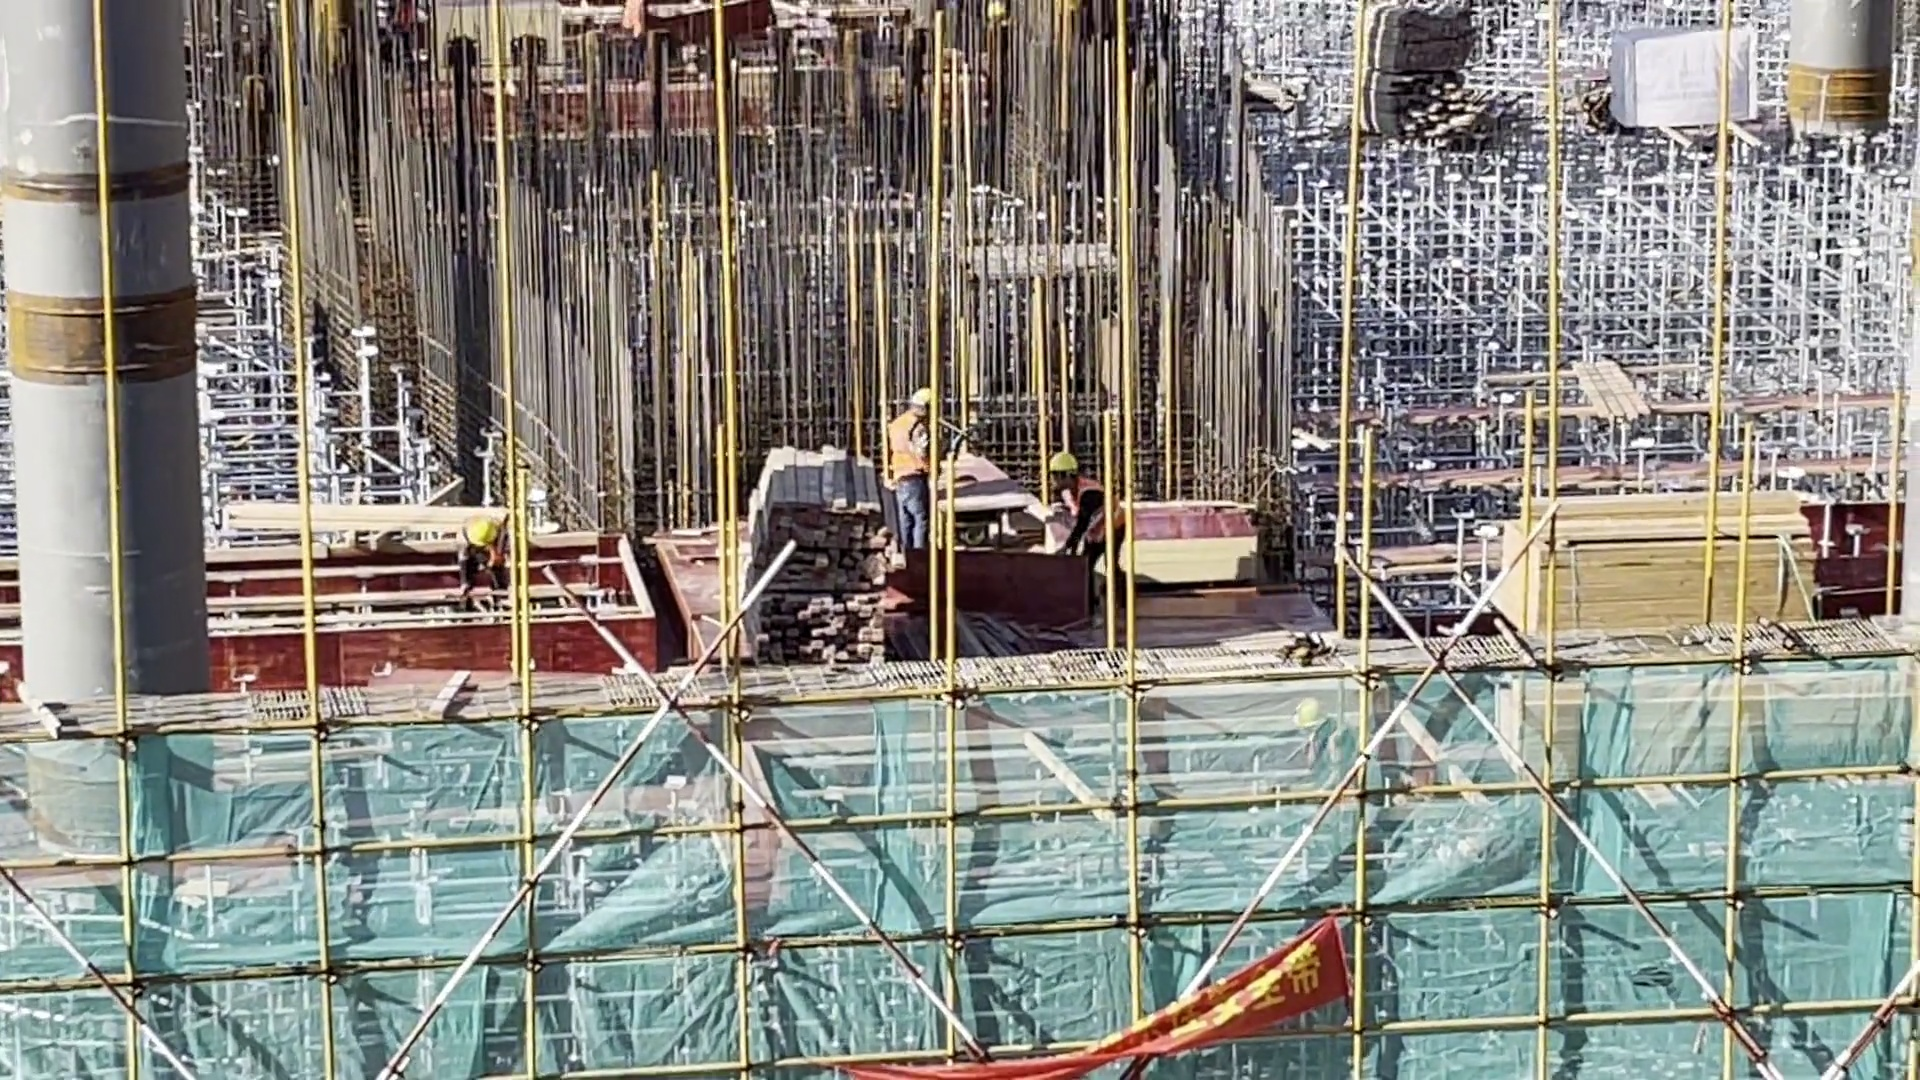board: (1032, 506, 1264, 586)
helmet: (1292, 699, 1326, 729), (466, 519, 496, 550), (1042, 450, 1076, 473), (912, 388, 939, 414)
person: (881, 383, 948, 577), (1052, 443, 1129, 610), (433, 516, 528, 603), (1288, 691, 1373, 781)
slogan: (934, 944, 1336, 1080)
vest: (1067, 478, 1122, 554), (888, 414, 930, 479), (1309, 725, 1351, 775)
wood: (1455, 665, 1920, 769), (1505, 497, 1781, 635), (760, 443, 896, 583), (737, 587, 892, 663), (1351, 65, 1477, 136), (1361, 3, 1472, 65)
